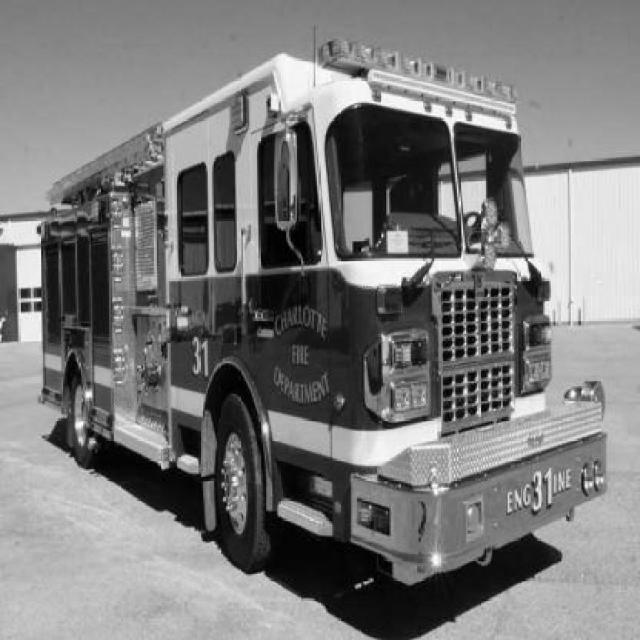Fire Truck: (38, 39, 610, 589)
